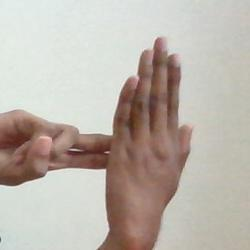N: (0, 9, 206, 249)
